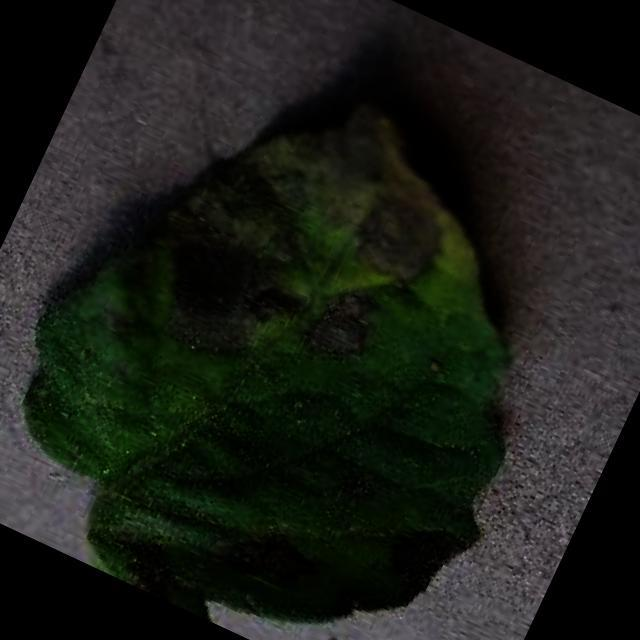Tomato Early blight leaf: (0, 14, 628, 640)
